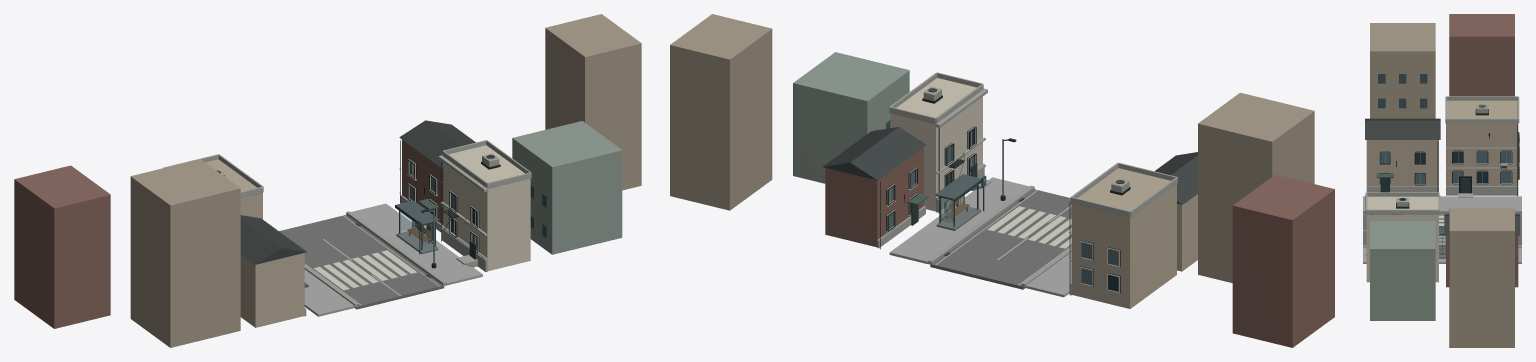
File: city_hd_02.glb
3 views of the same model, side by side, from view 1: azimuth 30°, elevation 25°; view 2: azimuth 150°, elevation 25°; view 3: azimuth 270°, elevation 25° (orthographic). The views are drawn at different scales.
Visible parts, largest first — view 1: CITY_realwall_a99d8c, CITY_realwall_87685e, CITY_realwall_929f96, CITY_realwall_d0c8b8, CITY_PBR_asphalt, CITY_realwall_b9ad99, CITY_PBR_pavement, CITY_roof, CITY_trim, CITY_zebra_paint, CITY_curb, CITY_recess (+2 smaller); view 2: CITY_realwall_a99d8c, CITY_realwall_87685e, CITY_realwall_b9ad99, CITY_realwall_929f96, CITY_PBR_asphalt, CITY_realwall_d0c8b8, CITY_roof, CITY_PBR_pavement, CITY_trim, CITY_zebra_paint, CITY_frame, CITY_curb (+4 smaller); view 3: CITY_realwall_a99d8c, CITY_realwall_b9ad99, CITY_realwall_929f96, CITY_realwall_87685e, CITY_trim, CITY_roof, CITY_realwall_d0c8b8, CITY_PBR_pavement, CITY_glass, CITY_recess, CITY_distant_window, CITY_frame (+5 smaller).
Boxes of the visible parts, x1,y1,x2,y2 form: CITY_realwall_a99d8c: [130, 14, 641, 347]; CITY_realwall_87685e: [14, 140, 443, 328]; CITY_realwall_929f96: [512, 121, 622, 254]; CITY_realwall_d0c8b8: [443, 145, 530, 270]; CITY_PBR_asphalt: [279, 215, 444, 309]; CITY_realwall_b9ad99: [205, 159, 304, 327]; CITY_PBR_pavement: [304, 203, 482, 316]; CITY_roof: [240, 120, 475, 264]; CITY_trim: [163, 140, 531, 316]; CITY_zebra_paint: [314, 250, 417, 290]; CITY_curb: [304, 211, 446, 307]; CITY_recess: [408, 159, 479, 253]; CITY_realwall_a99d8c: [670, 14, 1314, 282]; CITY_realwall_87685e: [825, 147, 1334, 347]; CITY_realwall_b9ad99: [1071, 168, 1197, 308]; CITY_realwall_929f96: [793, 52, 909, 183]; CITY_PBR_asphalt: [930, 189, 1071, 289]; CITY_realwall_d0c8b8: [890, 78, 982, 211]; CITY_roof: [823, 127, 1197, 217]; CITY_PBR_pavement: [889, 177, 1071, 297]; CITY_trim: [877, 72, 1177, 295]; CITY_zebra_paint: [987, 206, 1071, 248]; CITY_frame: [886, 126, 1119, 293]; CITY_curb: [928, 185, 1071, 287]; CITY_realwall_a99d8c: [1370, 23, 1514, 347]; CITY_realwall_b9ad99: [1366, 100, 1518, 186]; CITY_realwall_929f96: [1370, 221, 1435, 320]; CITY_realwall_87685e: [1446, 14, 1518, 287]; CITY_trim: [1365, 96, 1519, 255]; CITY_roof: [1365, 118, 1519, 235]; CITY_realwall_d0c8b8: [1366, 196, 1438, 282]; CITY_PBR_pavement: [1363, 196, 1521, 263]; CITY_glass: [1380, 133, 1519, 183]; CITY_recess: [1380, 132, 1518, 193]; CITY_distant_window: [1378, 74, 1427, 108]; CITY_frame: [1379, 132, 1519, 184].
Bounding box in the file's own units: 56 × 13.26 × 16.
